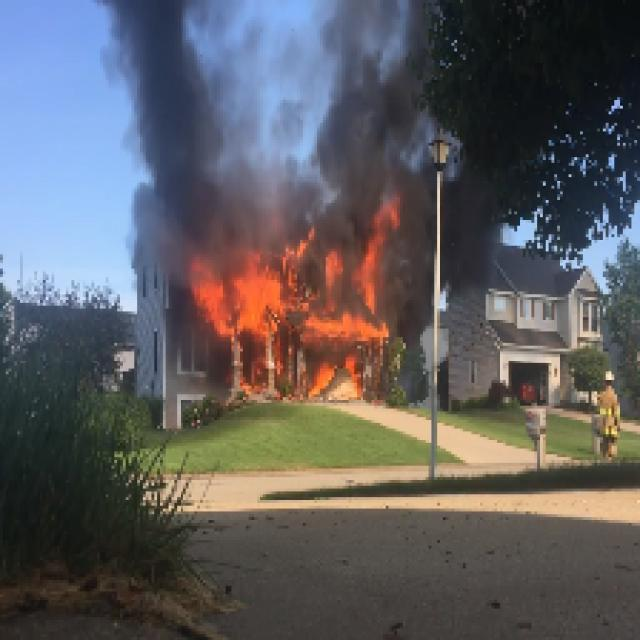Fire: (186, 254, 386, 334)
Smoke: (108, 2, 306, 212), (321, 2, 428, 198), (126, 217, 183, 277), (394, 226, 429, 323)
